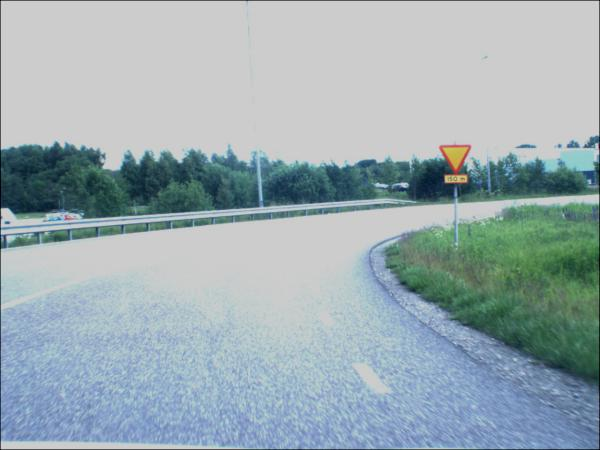GIVE_WAY: (440, 145, 473, 177)
